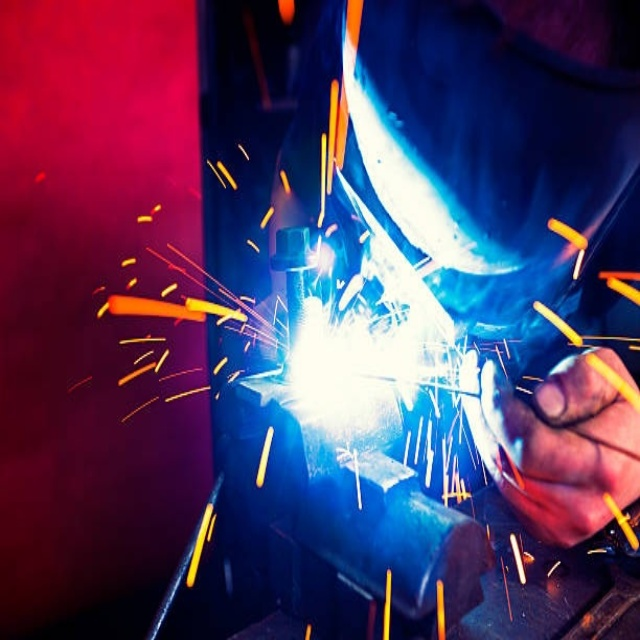Sin_guantes: (488, 344, 638, 551)
